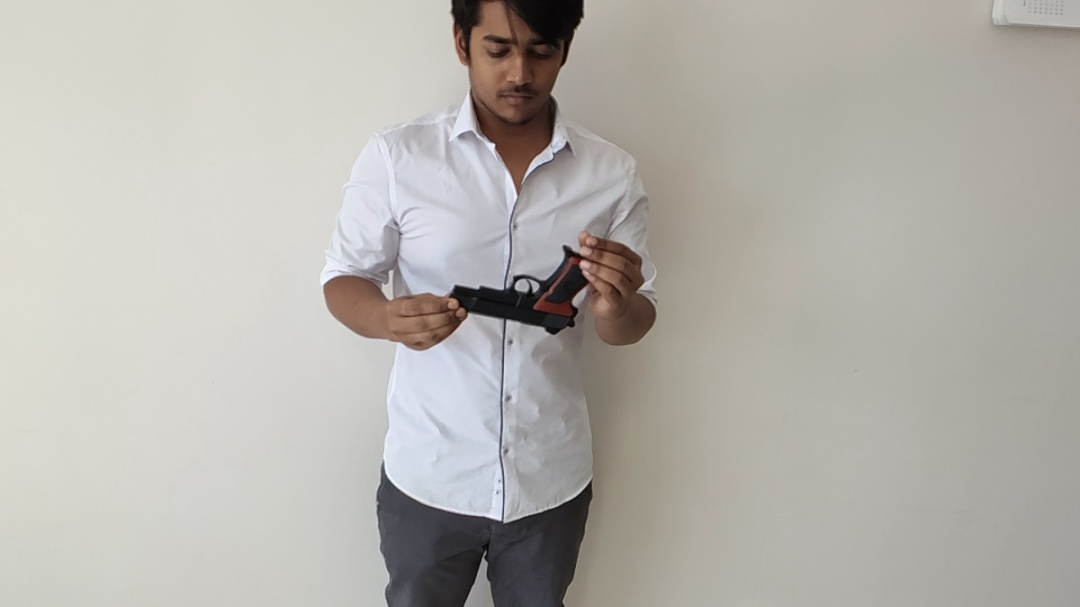gun: (177, 73, 899, 572)
